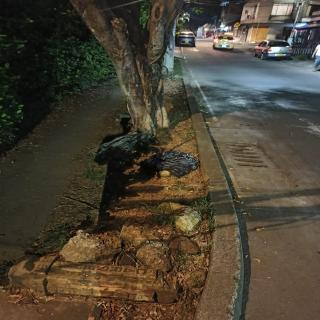Garbage: (137, 148, 203, 179)
